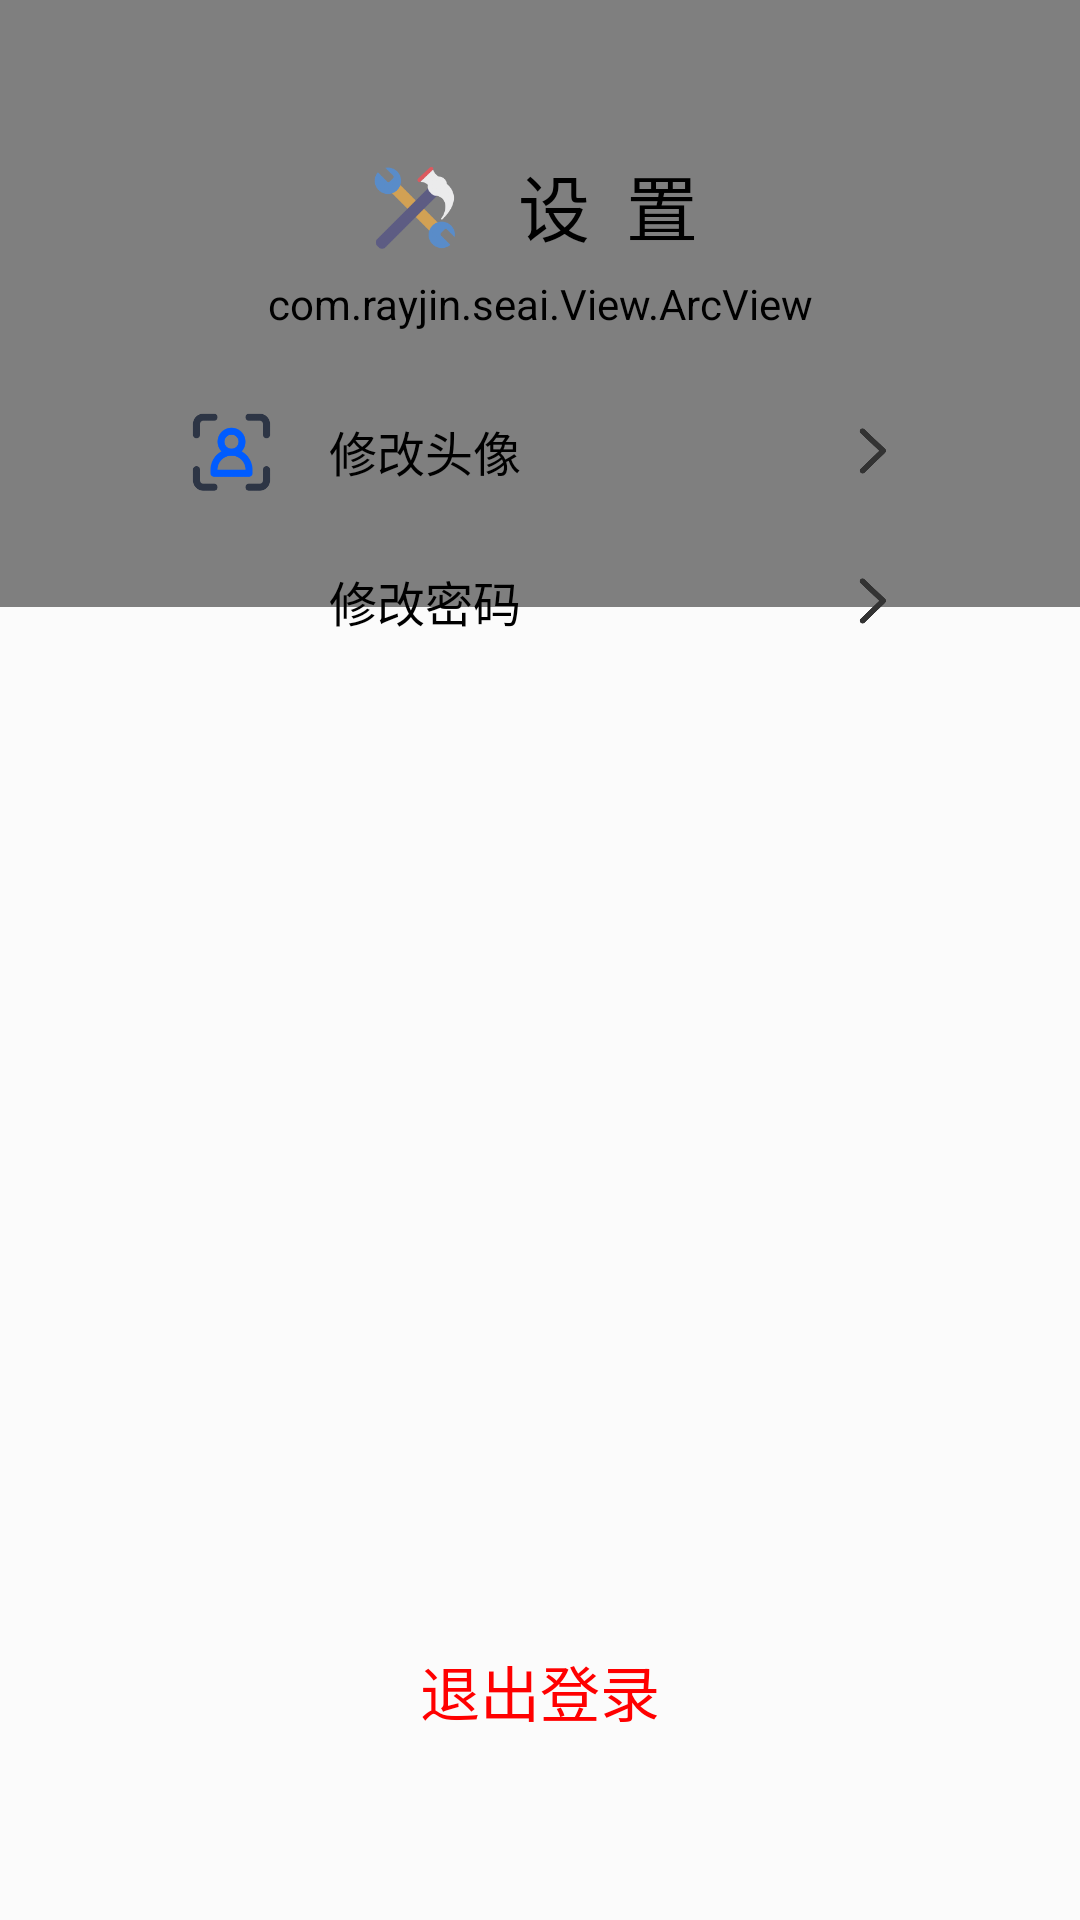

Icons on this 1080*1920 Android screen, each with the point to tap as (x,y):
next: (873,451), (871,601)
protrait: (231,452)
setting: (415,208)
